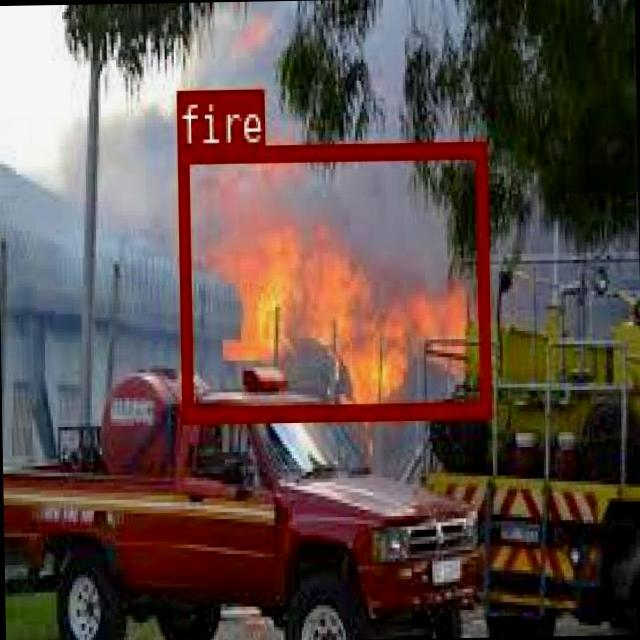fire: (175, 142, 488, 420)
